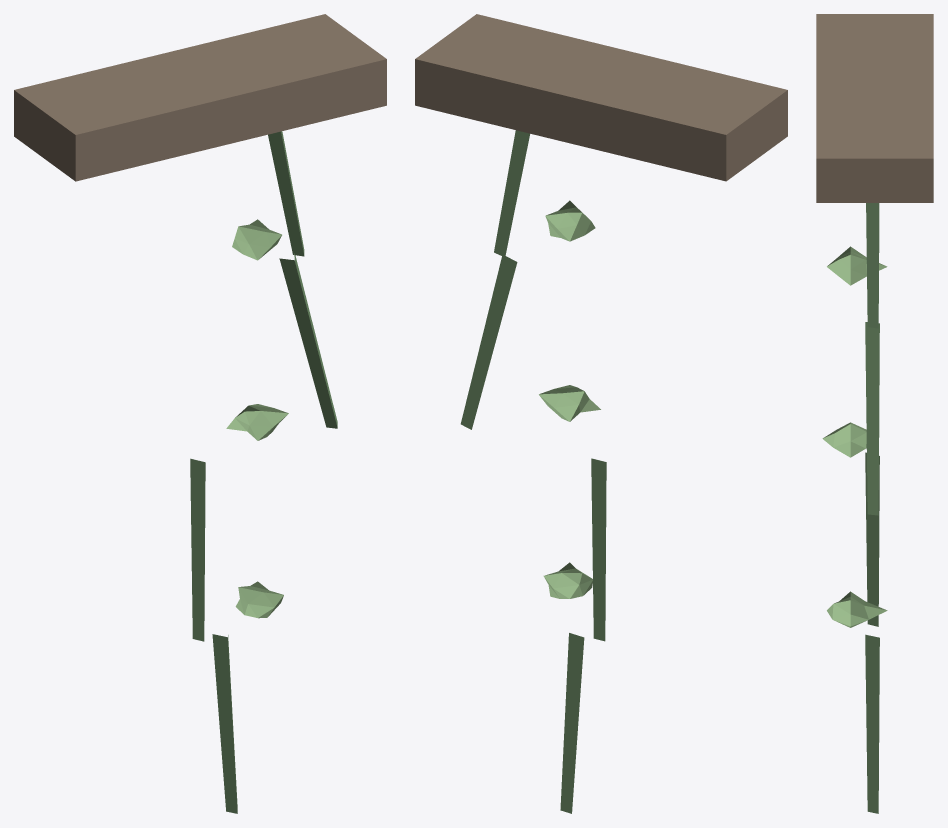
Rendered from vine_v18.glb.
3 views of the same model, side by side, from view 1: azimuth 30°, elevation 25°; view 2: azimuth 150°, elevation 25°; view 3: azimuth 270°, elevation 25° (orthographic). The views are drawn at different scales.
Visible parts, largest first — view 1: lod0; view 2: lod0; view 3: lod0.
Boxes of the visible parts, x1,y1,x2,y2 form: lod0: (14, 14, 386, 813); lod0: (415, 14, 787, 813); lod0: (816, 14, 933, 813).
Size of what is drawn, in the model's own units: 0.7 by 1.6 by 0.24.
